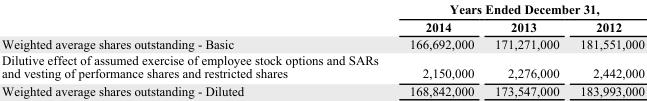table: (1, 1, 643, 98)
table column: (1, 1, 393, 98), (393, 1, 483, 98), (483, 1, 569, 98), (569, 1, 643, 98)
table column header: (1, 1, 643, 34)
table row: (1, 51, 643, 82), (1, 17, 643, 34), (1, 34, 643, 51), (1, 1, 643, 17), (1, 82, 643, 98)
table spanning cell: (393, 1, 643, 17)
